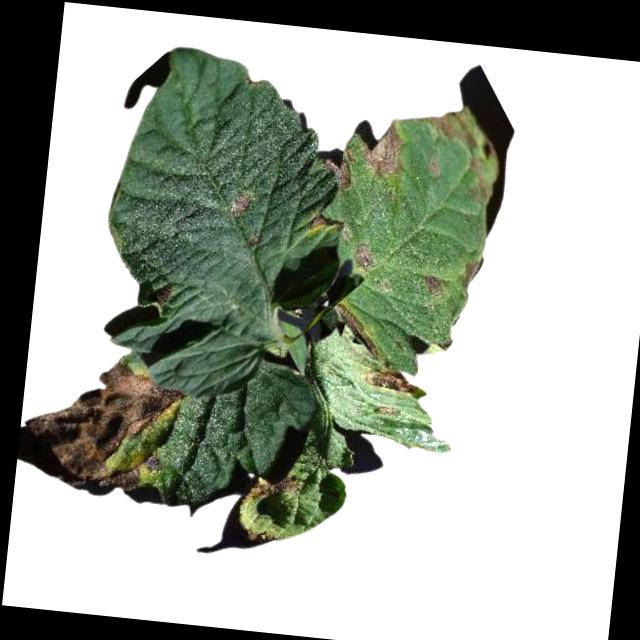Early_blight: (18, 352, 191, 495), (362, 117, 408, 181), (332, 300, 381, 355), (245, 472, 303, 508), (319, 143, 356, 194), (363, 366, 421, 398), (459, 255, 484, 292), (227, 190, 253, 221), (350, 243, 374, 270), (311, 214, 341, 234), (422, 273, 444, 298), (246, 527, 278, 544), (153, 283, 172, 308)
